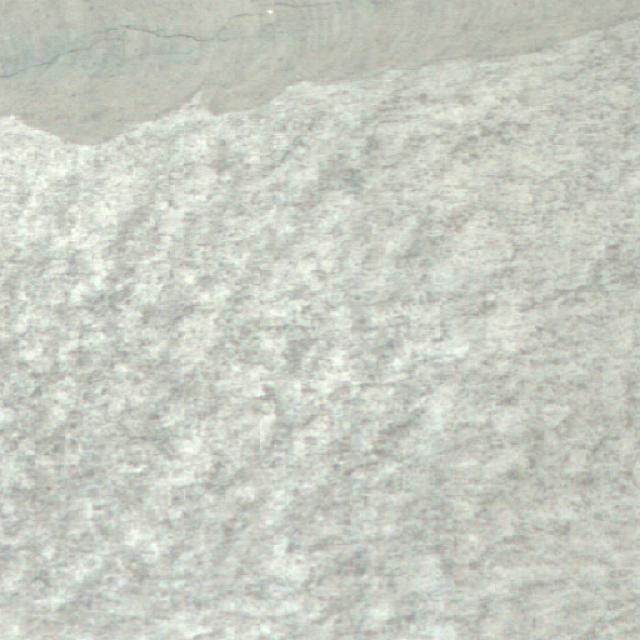Transverse: (0, 2, 264, 88)
